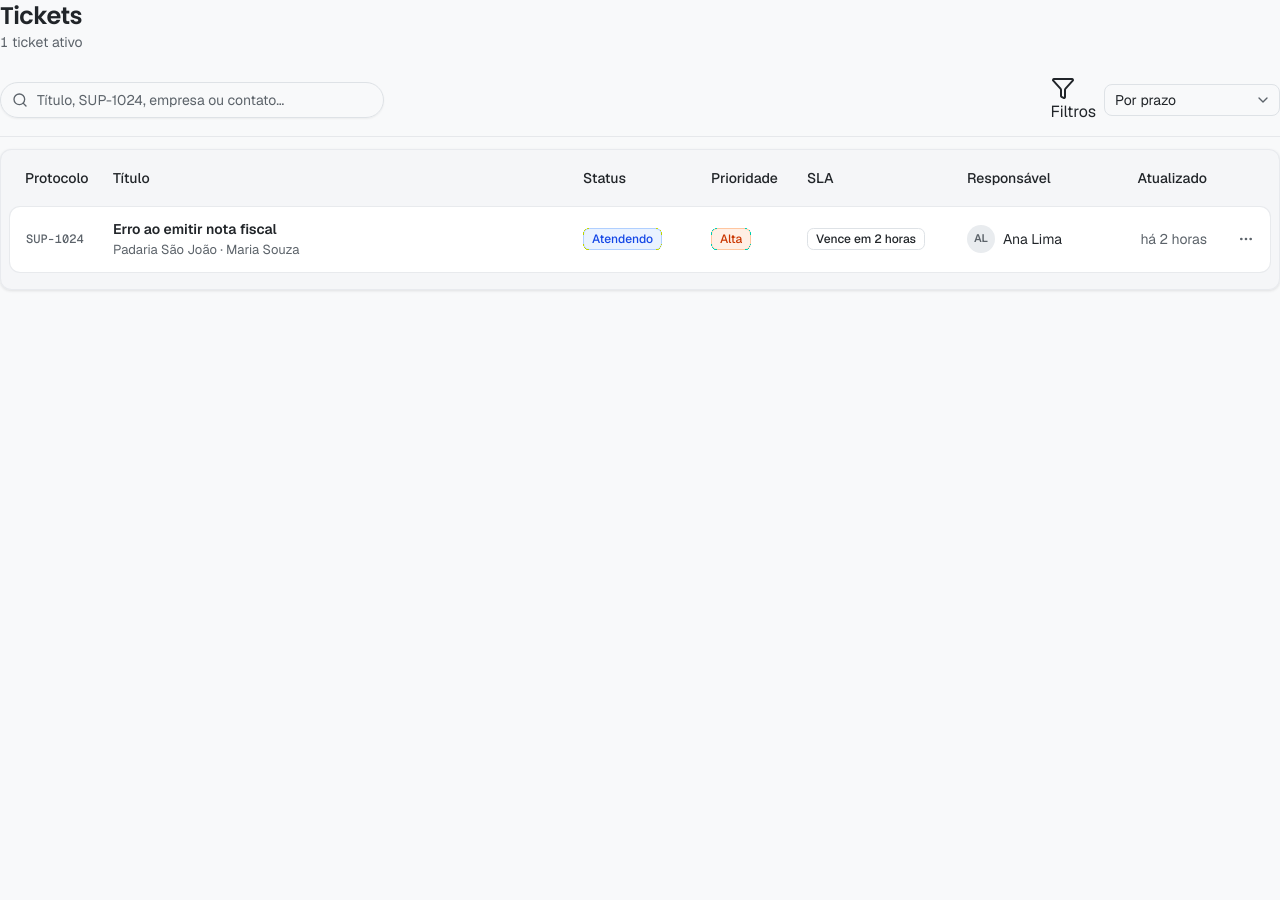
TicketsTable — filtros › sem a equipe, sobram 'Eu' e 'Sem responsável', e o painel diz que a leitura falhou
This screenshot has width=1280, height=900.
Click the button "Filtros": (1073, 100) [1050,76,1096,124]
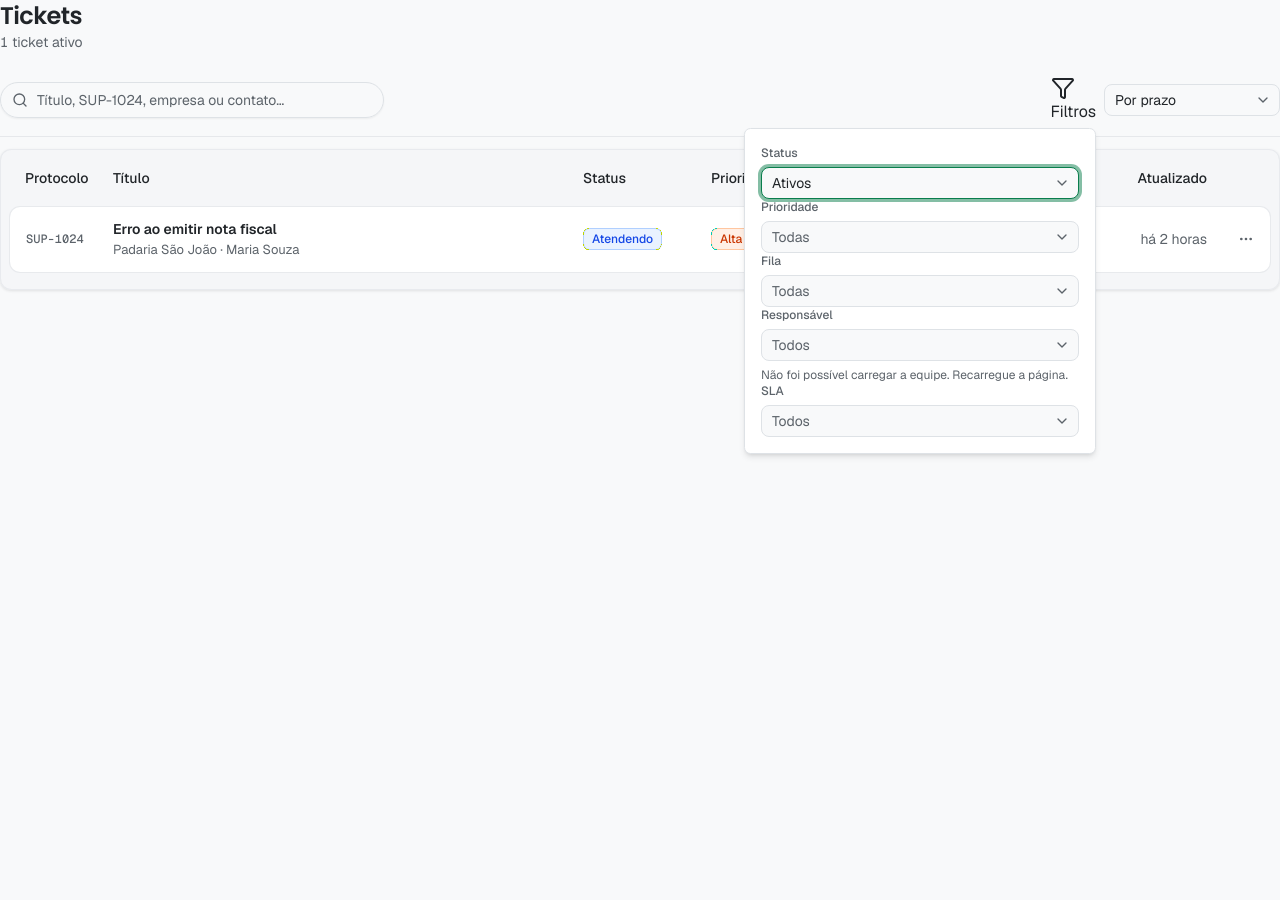
Expected: the text "Não foi possível carregar a equipe. Recarregue a página." is shown, [761,367,1079,383]
Click the dropdown named "Responsável": (791, 345) [761,329,1079,361]
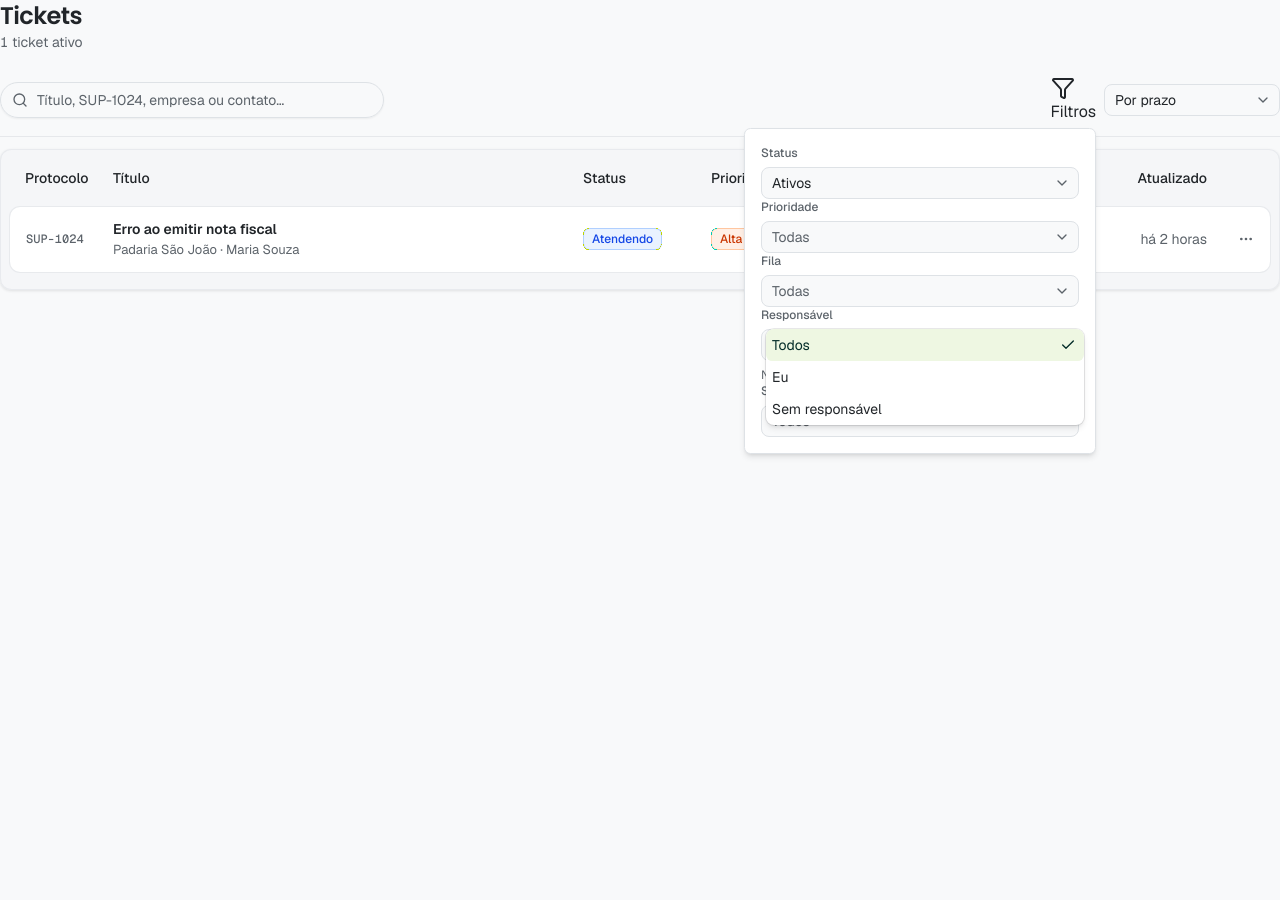
Expected: the options read "Todos", "Eu", "Sem responsável", in this order, [766,329,1084,361]; [772,368,788,386]; [772,400,882,418]
